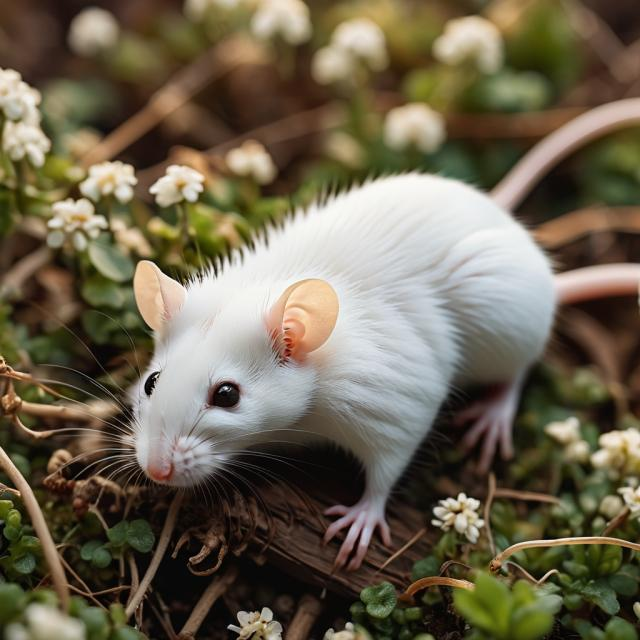rodents: (110, 162, 571, 502)
